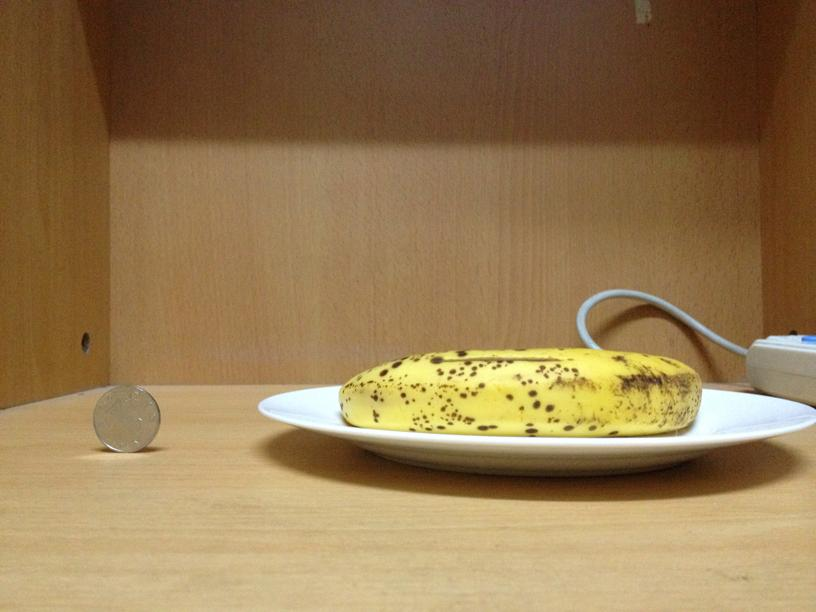banana: (342, 346, 699, 435)
coin: (89, 385, 161, 451)
